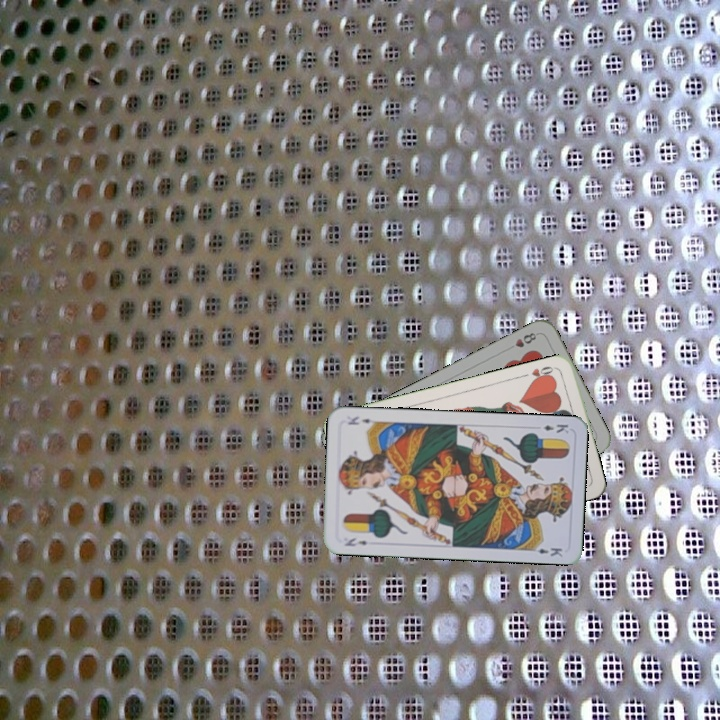EK: (539, 420, 571, 436), (341, 534, 370, 549)
H8: (503, 328, 539, 353)
HO: (519, 362, 560, 385)
